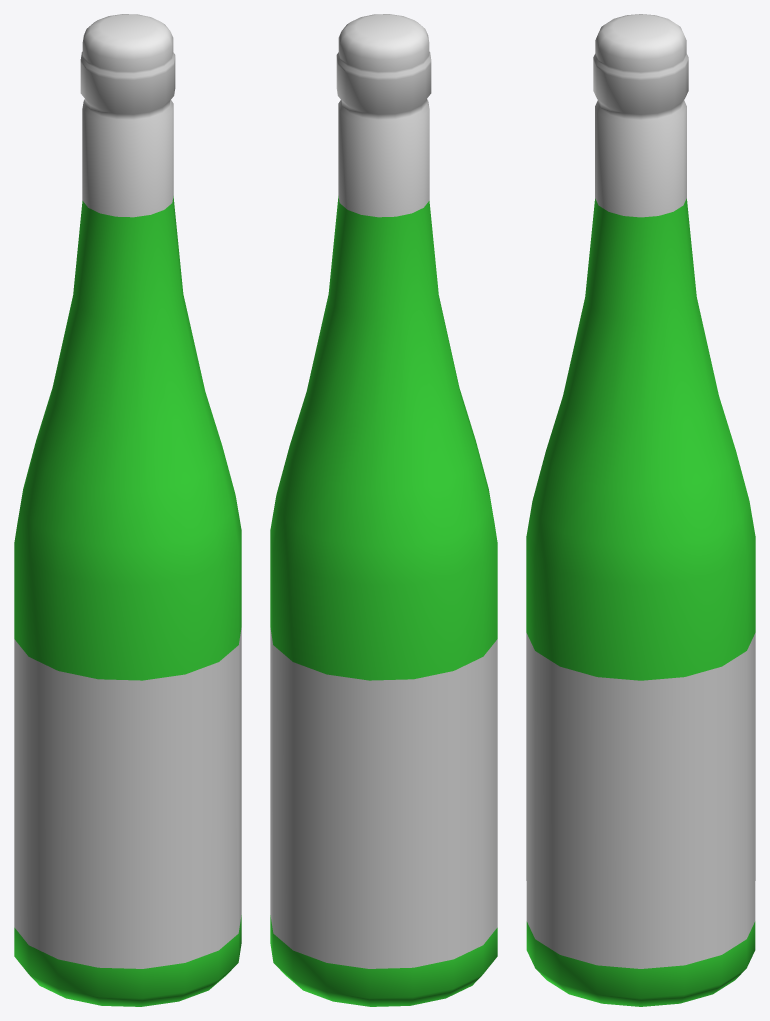
Rendered from Bottle 4.fbx.
3 renders of one model, left to right at view 1: azimuth 30°, elevation 25°; view 2: azimuth 150°, elevation 25°; view 3: azimuth 270°, elevation 25°, orthographic.
Visible parts, largest first — view 1: Bottle 4; view 2: Bottle 4; view 3: Bottle 4.
Boxes of the visible parts, box(x1,y1,x2,y2) form: Bottle 4: box(14, 14, 241, 1006); Bottle 4: box(270, 14, 497, 1006); Bottle 4: box(526, 14, 755, 1006).
Bounding box in the file's own units: 57.91 × 261 × 57.91.
